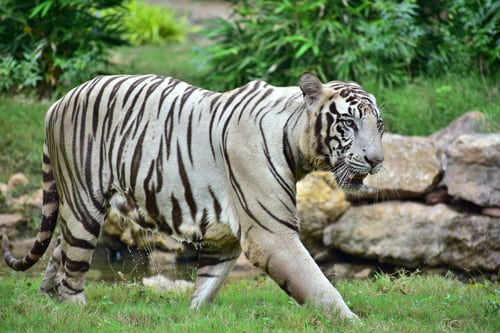tiger: (295, 69, 386, 196)
